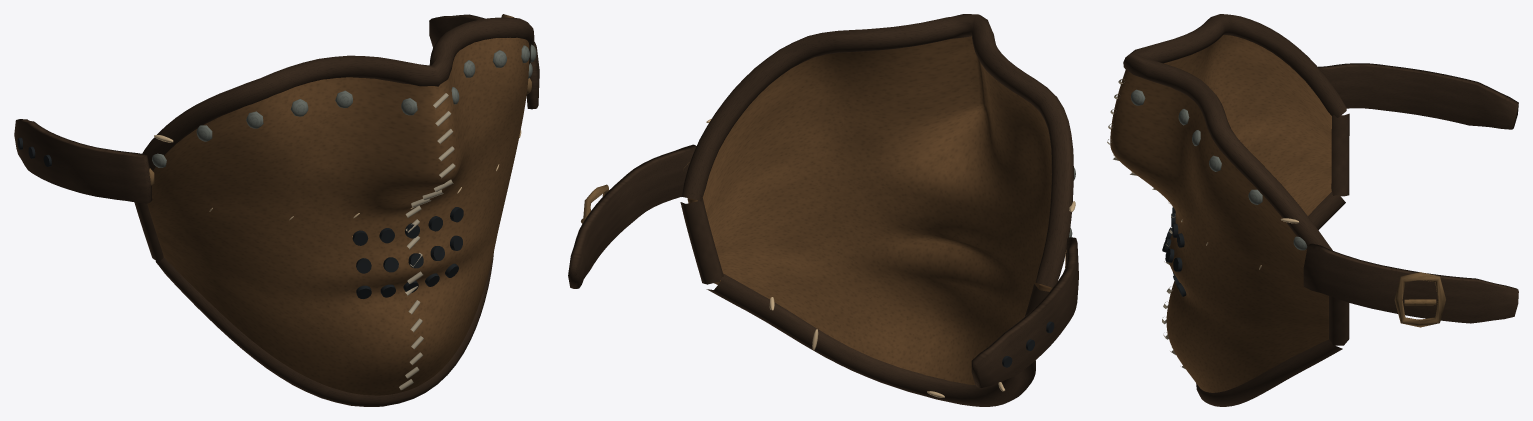
3 renders of one model, left to right at view 1: azimuth 30°, elevation 25°; view 2: azimuth 150°, elevation 25°; view 3: azimuth 270°, elevation 25°, orthographic. The views are drawn at different scales.
Parts seen in each view (by area): view 1: tanned leather, oiled strap leather, recess and lining, weathered plate, waxed linen thread; view 2: tanned leather, oiled strap leather; view 3: tanned leather, oiled strap leather, aged alloy edge, weathered plate, recess and lining.
Boxes of the visible parts, box(x1,y1,x2,y2) form: tanned leather: box(147, 37, 529, 395); oiled strap leather: box(14, 14, 539, 406); recess and lining: box(17, 137, 463, 298); weathered plate: box(152, 44, 536, 167); waxed linen thread: box(399, 93, 455, 390); tanned leather: box(687, 36, 1052, 384); oiled strap leather: box(568, 14, 1078, 406); tanned leather: box(1110, 35, 1331, 392); oiled strap leather: box(1123, 14, 1518, 406); aged alloy edge: box(1394, 272, 1445, 327); weathered plate: box(1131, 89, 1307, 250); recess and lining: box(1162, 207, 1186, 296).
Size of the model in its own units: 0.1781 by 0.1309 by 0.1445.
8 materials, 5 textured.
